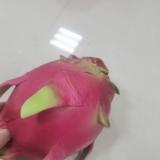pitaya: (1, 56, 119, 159)
